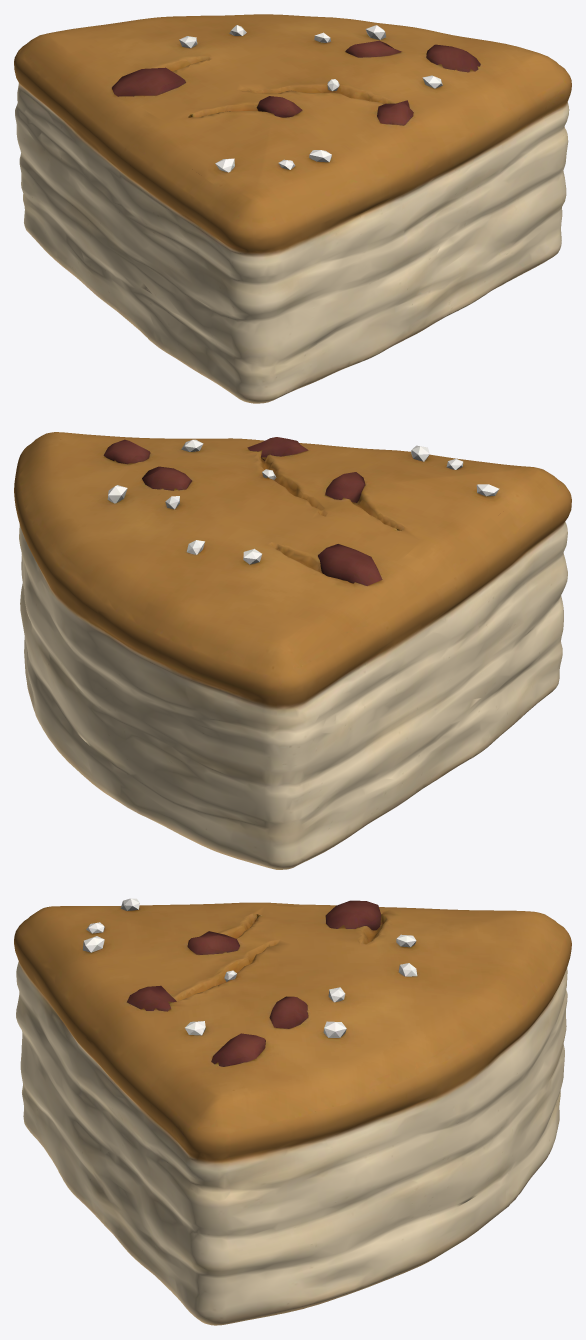
Rendered from scone--raisin-flesh.glb.
The picture shows the model from 3 angles, top to bottom: view 1: azimuth 30°, elevation 25°; view 2: azimuth 150°, elevation 25°; view 3: azimuth 270°, elevation 25°; orthographic projection. The views are drawn at different scales.
Visible parts, largest first — view 1: scone_raisin-flesh; view 2: scone_raisin-flesh; view 3: scone_raisin-flesh.
Boxes of the visible parts, x1,y1,x2,y2 form: scone_raisin-flesh: (14,14,571,403); scone_raisin-flesh: (14,432,571,869); scone_raisin-flesh: (14,898,571,1325).
Bounding box in the file's own units: 0.9367 × 0.4767 × 0.9779.
Materials: 1 (1 with a texture image).
